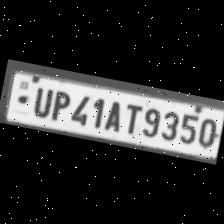0: (194, 114, 220, 149)
1: (86, 94, 107, 130)
3: (156, 107, 181, 143)
4: (66, 91, 94, 127)
5: (174, 109, 199, 146)
9: (137, 104, 163, 140)
A: (100, 97, 126, 133)
P: (47, 87, 72, 123)
T: (119, 100, 144, 136)
U: (27, 82, 54, 118)
